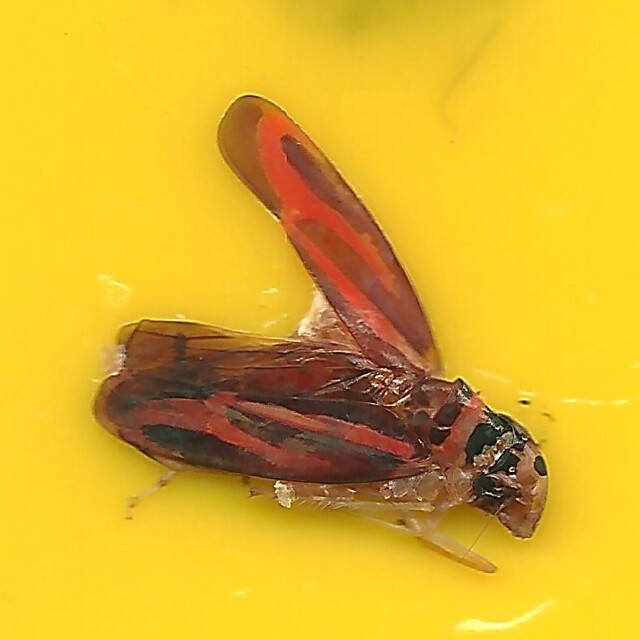Hemiptera: (90, 90, 550, 550)
